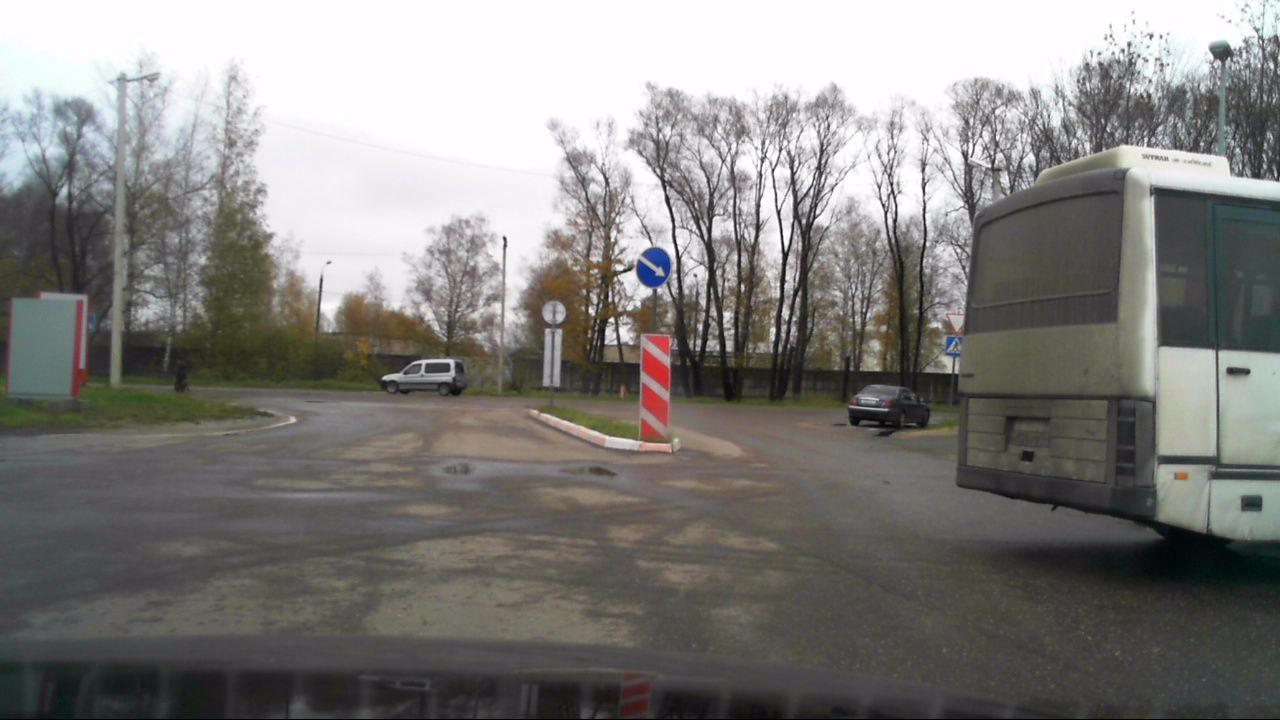2_4: (946, 311, 966, 334)
4_2_1: (635, 246, 671, 289)
5_19_1: (945, 335, 963, 356)
8_22_1: (638, 331, 672, 442)
